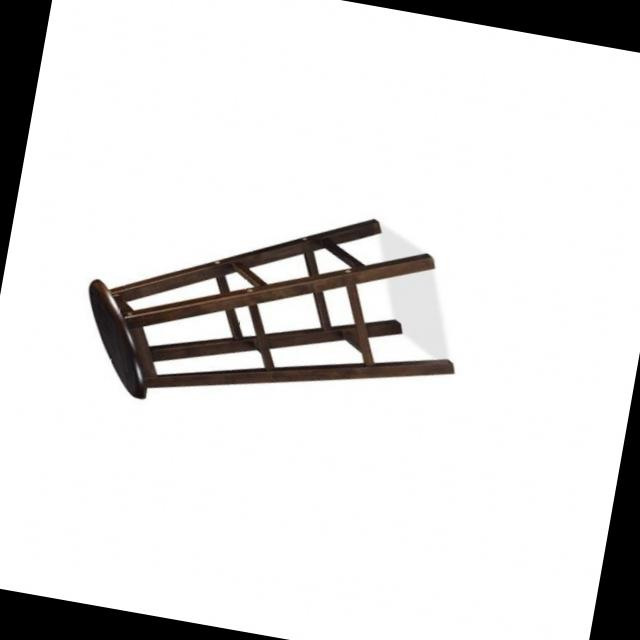Chair: (67, 168, 496, 456)
